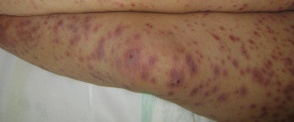SJS-TEN: (0, 8, 294, 122)
